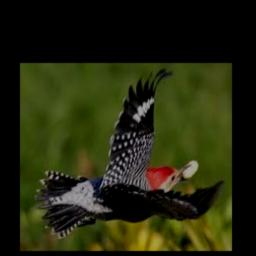Woodpecker: (34, 68, 225, 238)
